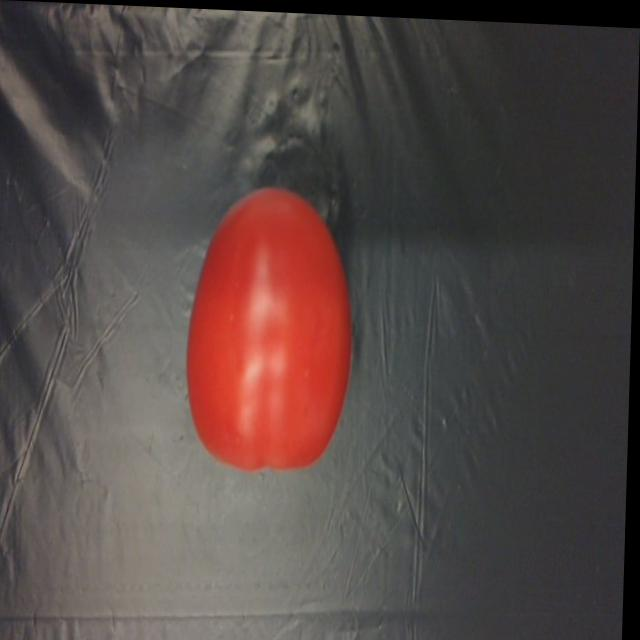kirmizi: (185, 182, 356, 479)
